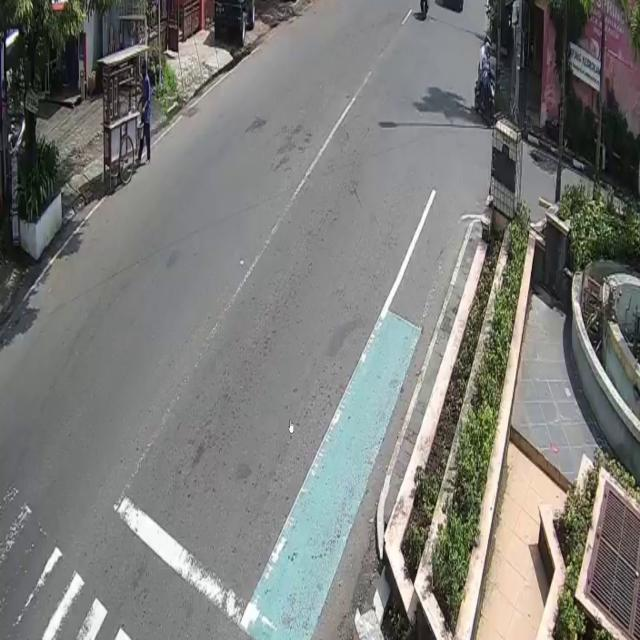motorbike: (475, 66, 496, 126)
